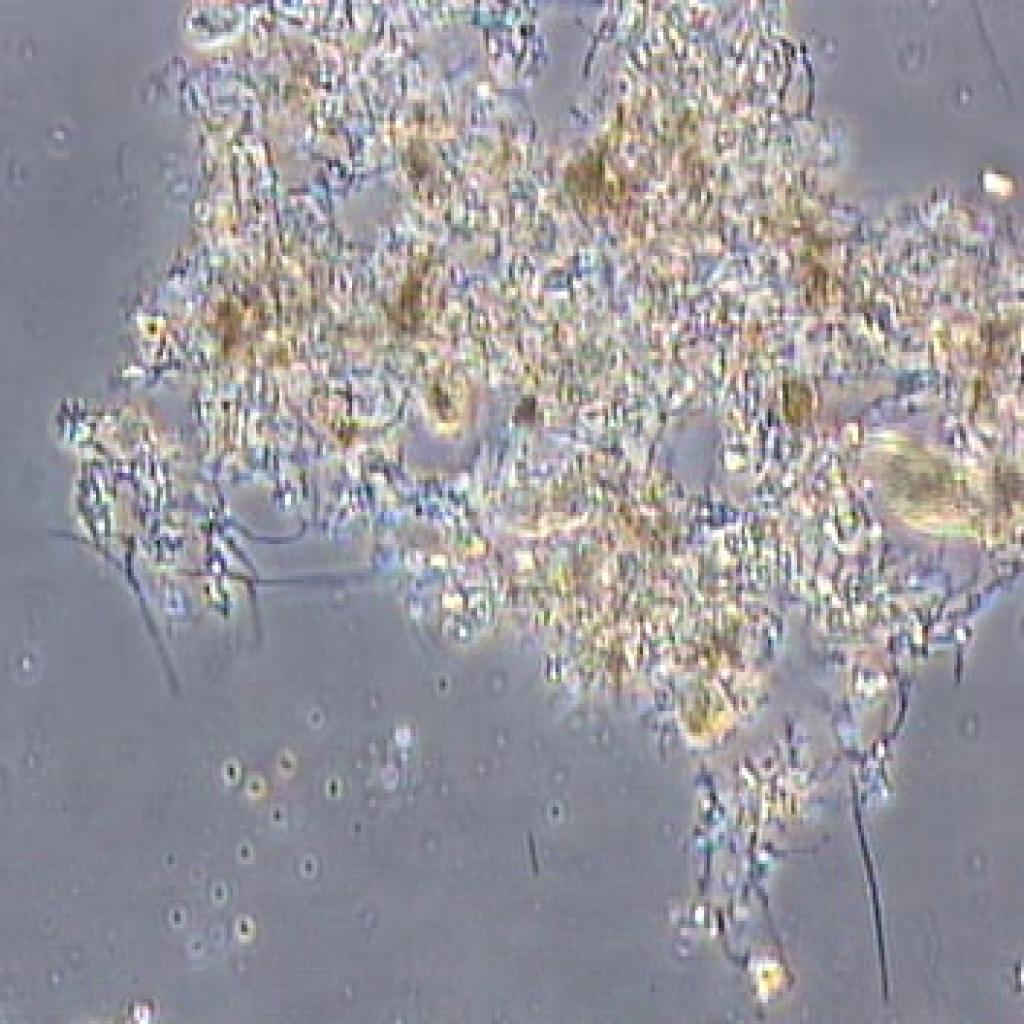Chaetonotus: (852, 418, 1024, 556)
